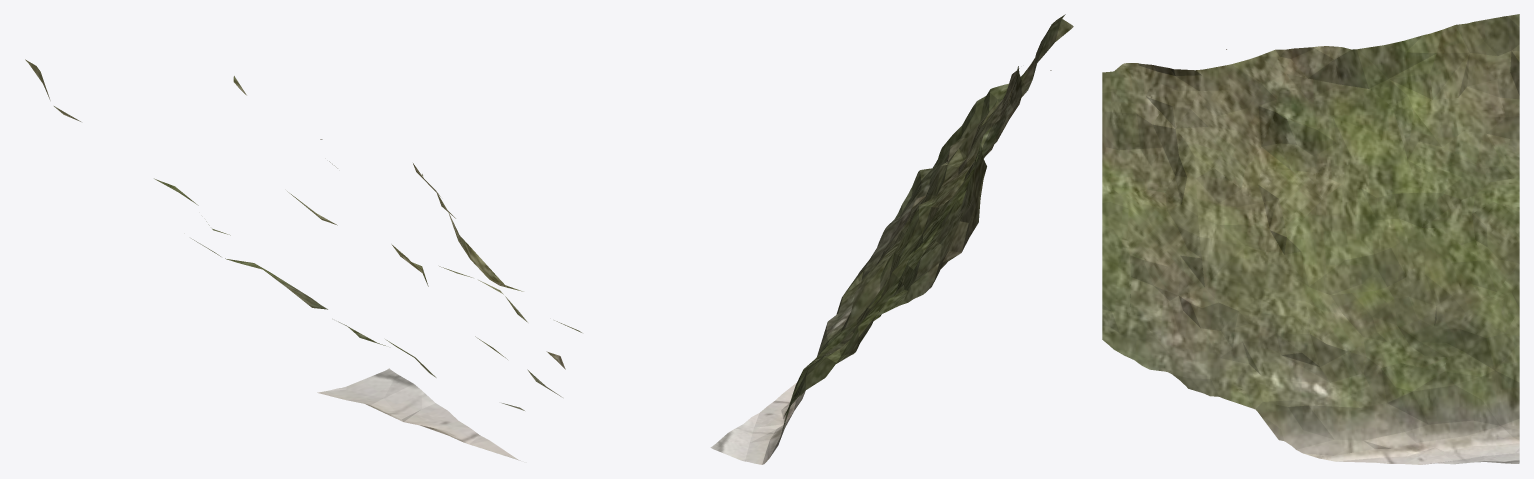
The picture shows the model from 3 angles, left to right: view 1: azimuth 30°, elevation 25°; view 2: azimuth 150°, elevation 25°; view 3: azimuth 270°, elevation 25°; orthographic projection. The views are drawn at different scales.
Bounding box in the file's own units: 2.19 × 2.53 × 2.95.
3 materials, 3 textured.
